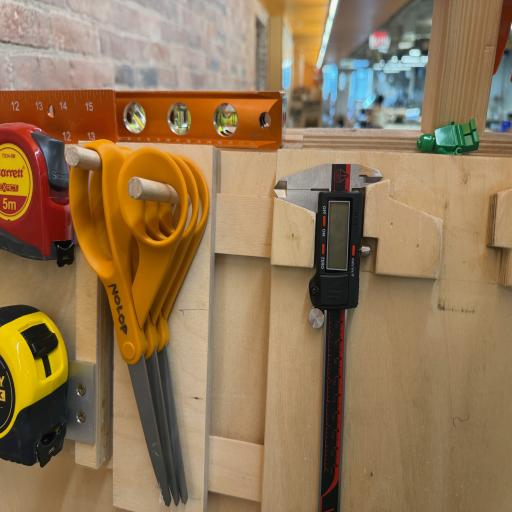Lego-Dude: (417, 118, 479, 155)
